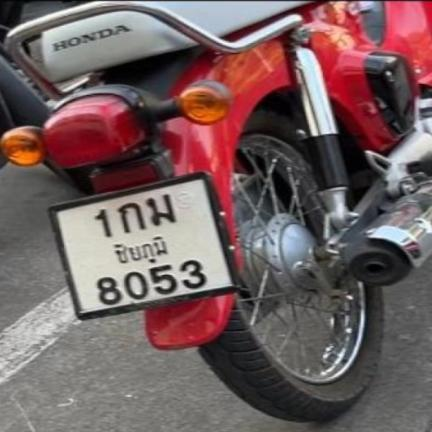0: (119, 269, 155, 303)
1: (86, 205, 116, 240)
3: (173, 256, 213, 292)
5: (144, 262, 182, 296)
8: (91, 274, 126, 308)
A01: (112, 198, 150, 235)
A33: (142, 191, 180, 228)
CPM: (104, 230, 178, 271)
